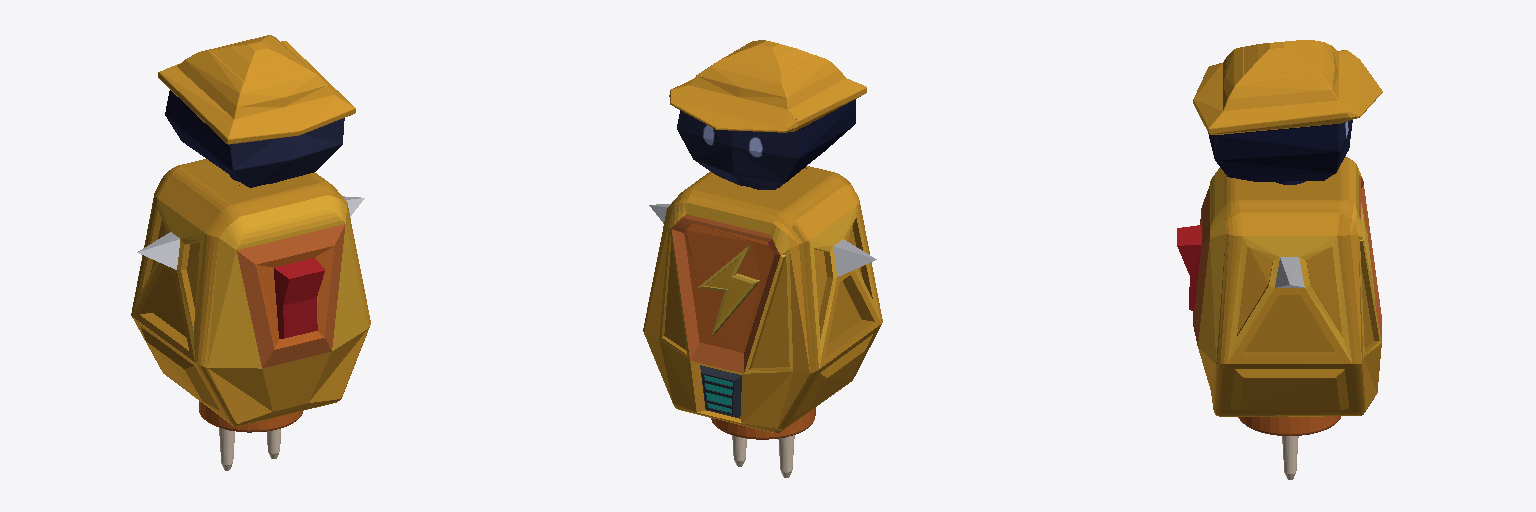
The picture shows the model from 3 angles: view 1: azimuth 30°, elevation 25°; view 2: azimuth 150°, elevation 25°; view 3: azimuth 270°, elevation 25°; orthographic projection.
Visible parts, largest first — view 1: Body, Head, Socket, L._Leg; view 2: Body, Head, Socket, L._Leg; view 3: Body, Head, Socket, R._Leg.
Boxes of the visible parts, x1=… form: Body: x1=131, y1=159, x2=370, y2=426; Head: x1=158, y1=35, x2=355, y2=187; Socket: x1=199, y1=401, x2=302, y2=432; L._Leg: x1=219, y1=428, x2=234, y2=470; Body: x1=643, y1=166, x2=882, y2=432; Head: x1=669, y1=40, x2=866, y2=189; Socket: x1=711, y1=407, x2=815, y2=439; L._Leg: x1=778, y1=435, x2=794, y2=477; Body: x1=1177, y1=156, x2=1381, y2=416; Head: x1=1193, y1=40, x2=1382, y2=184; Socket: x1=1238, y1=416, x2=1340, y2=435; R._Leg: x1=1282, y1=436, x2=1298, y2=479.
Size of the model in its own units: 1.93 by 3.42 by 1.51.
1 materials, 1 textured.